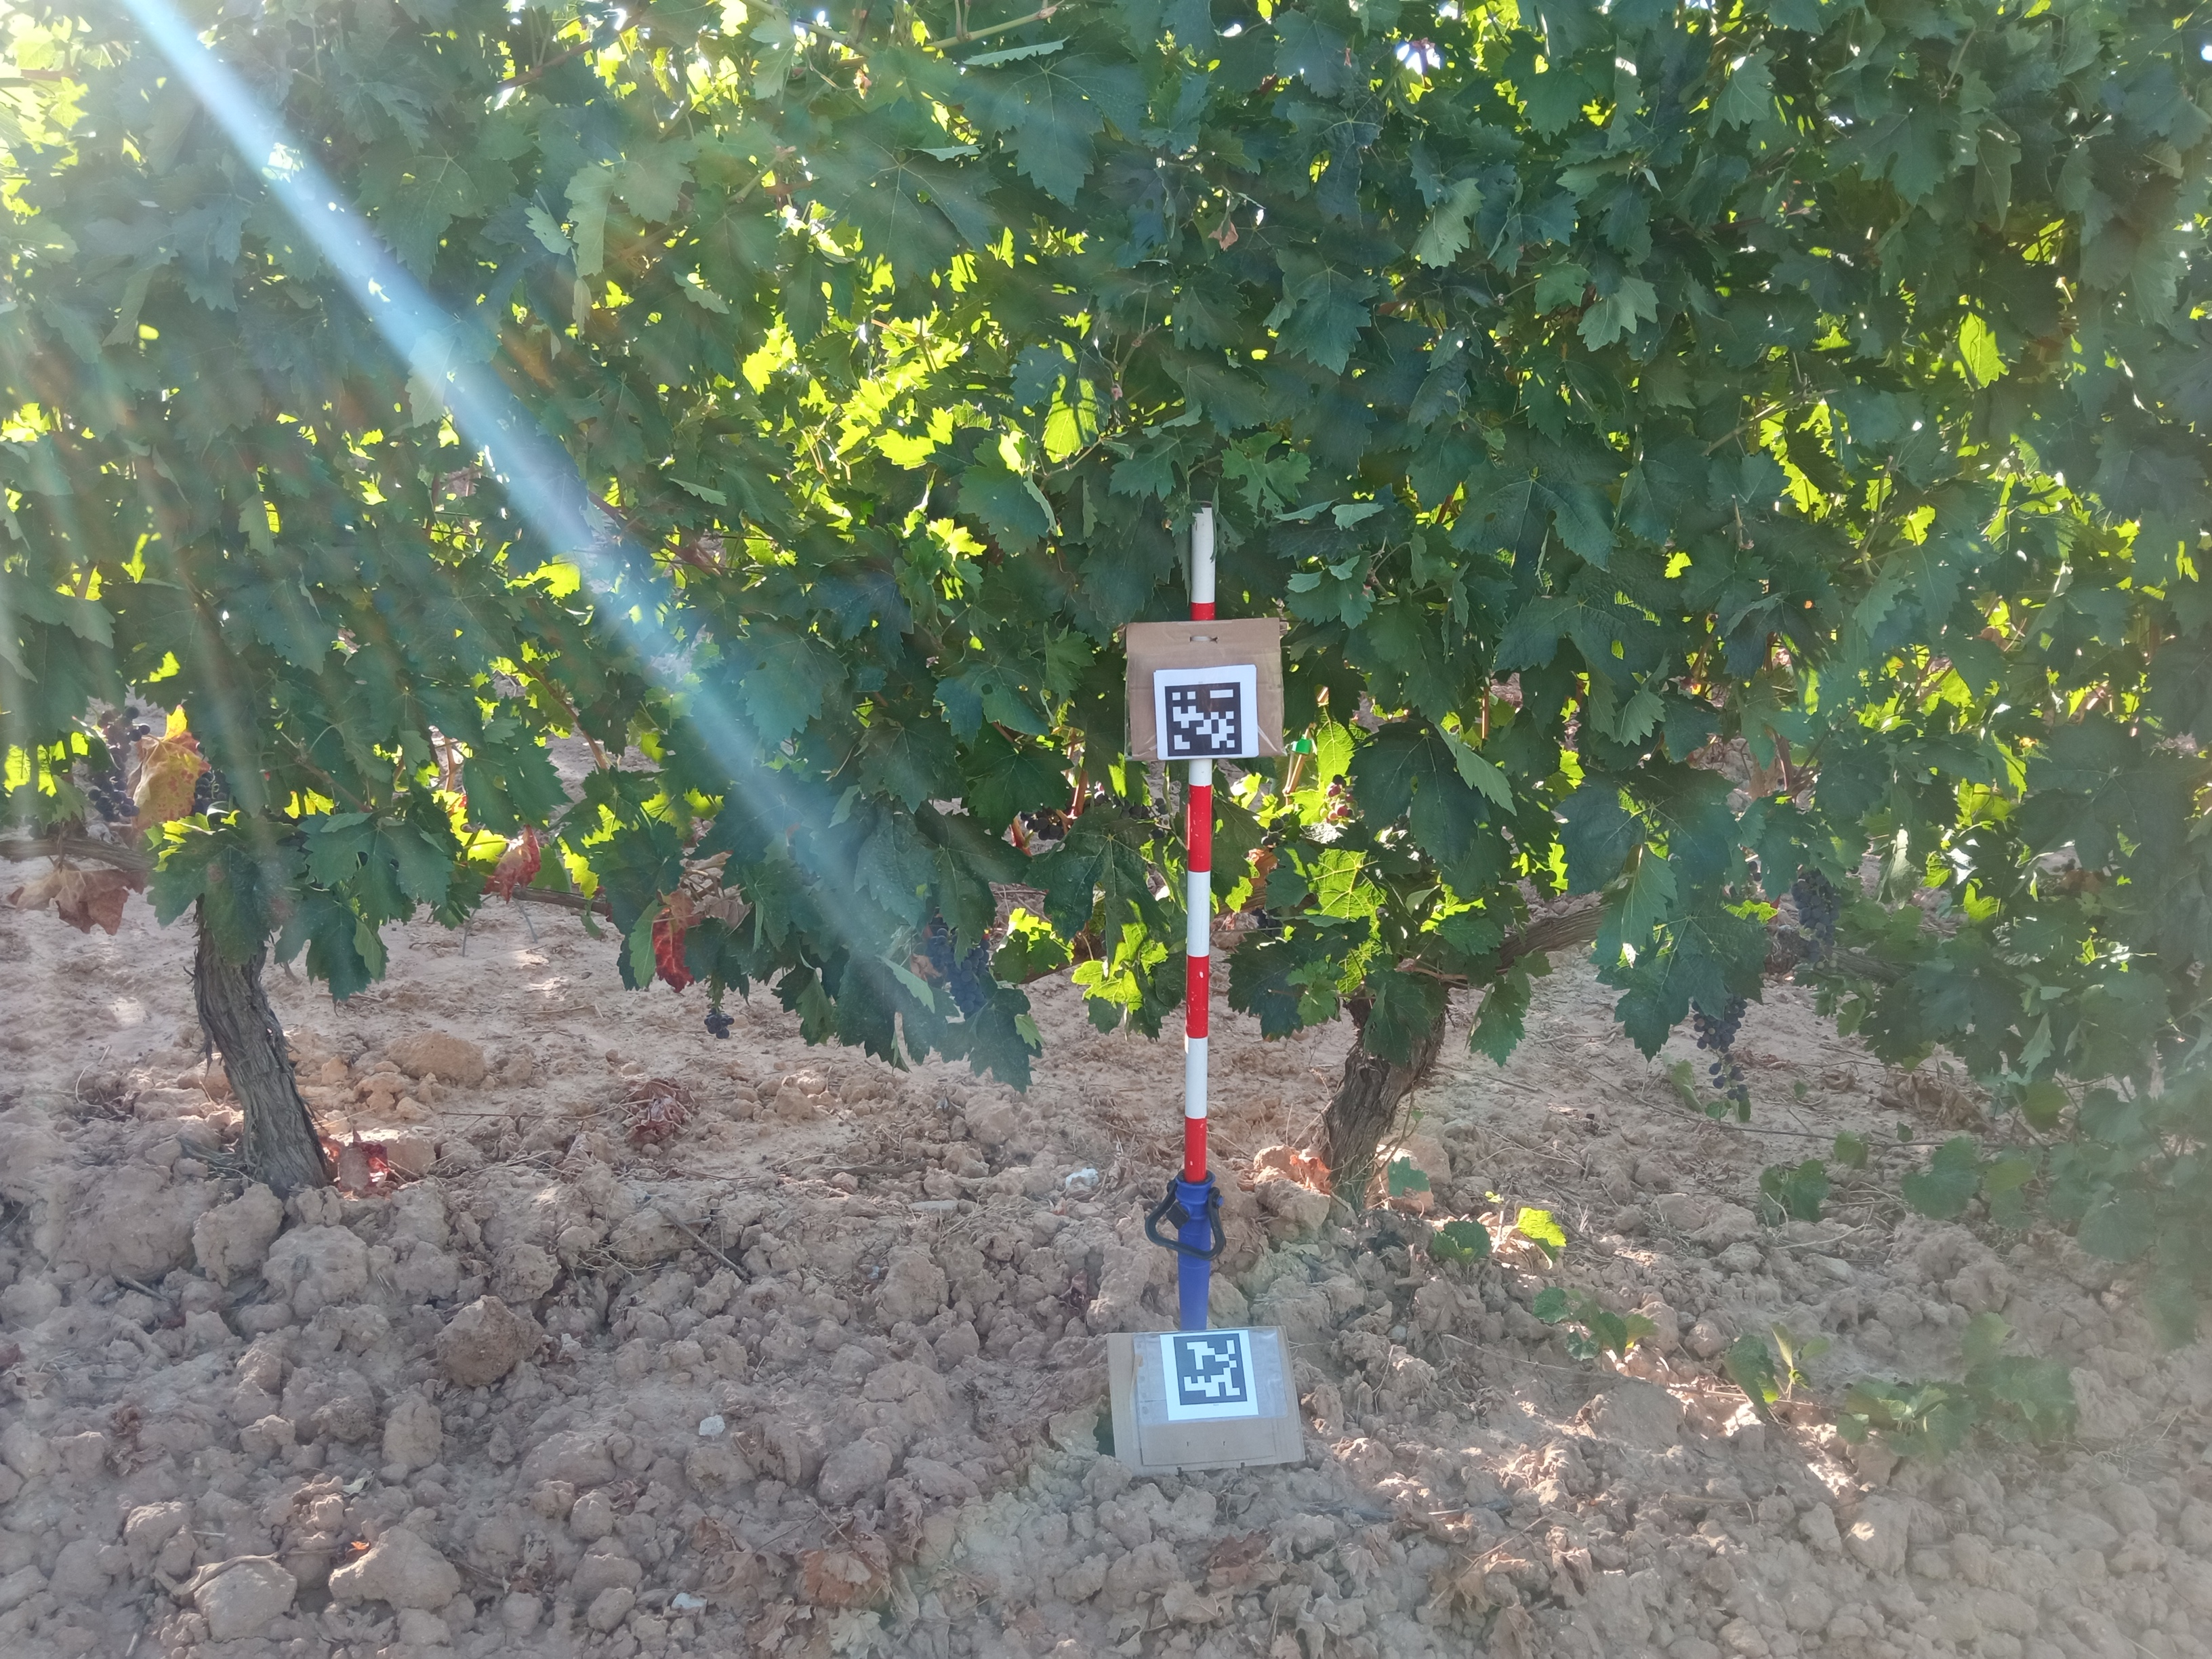grapes: (89, 708, 150, 823), (927, 927, 988, 1021), (1691, 1000, 1747, 1101), (1791, 871, 1839, 967), (1083, 796, 1167, 836), (190, 772, 225, 817), (1021, 809, 1064, 840), (1731, 861, 1763, 899), (1320, 782, 1352, 819), (1251, 904, 1282, 939), (704, 1007, 735, 1039), (1261, 814, 1291, 845), (799, 864, 817, 885), (1395, 814, 1409, 831), (787, 836, 794, 857)
